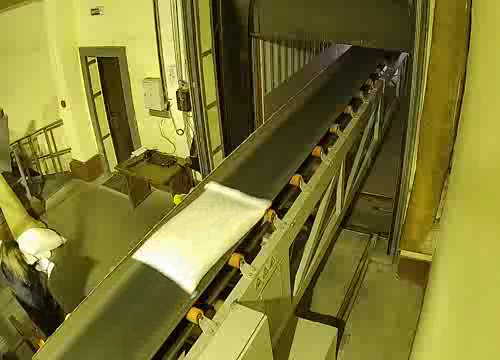bag: (124, 180, 288, 298)
